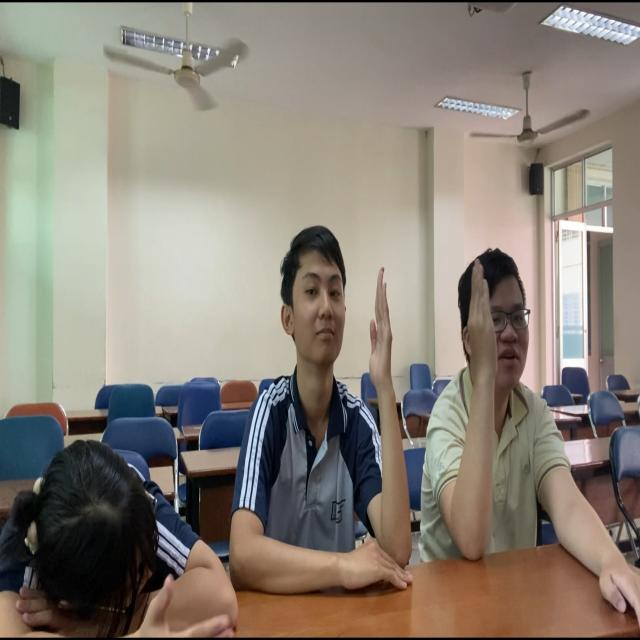raise_hand: (417, 230, 640, 635), (227, 214, 420, 614)
sleep: (1, 402, 244, 640)
